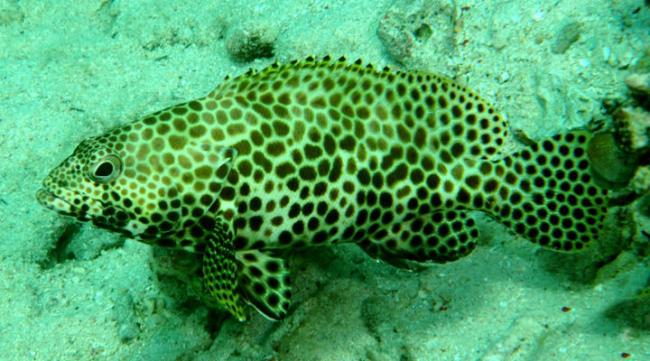fish: (36, 53, 610, 324)
